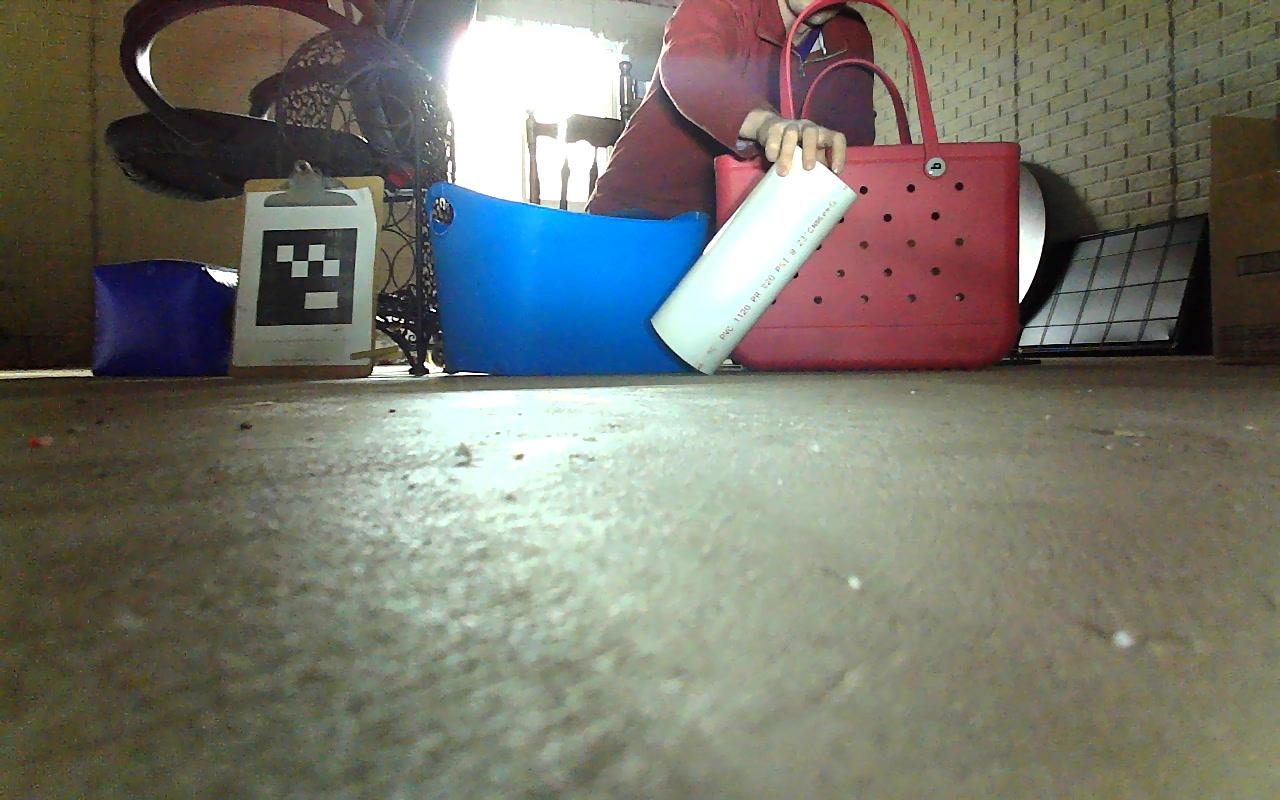coral: (649, 138, 862, 373)
